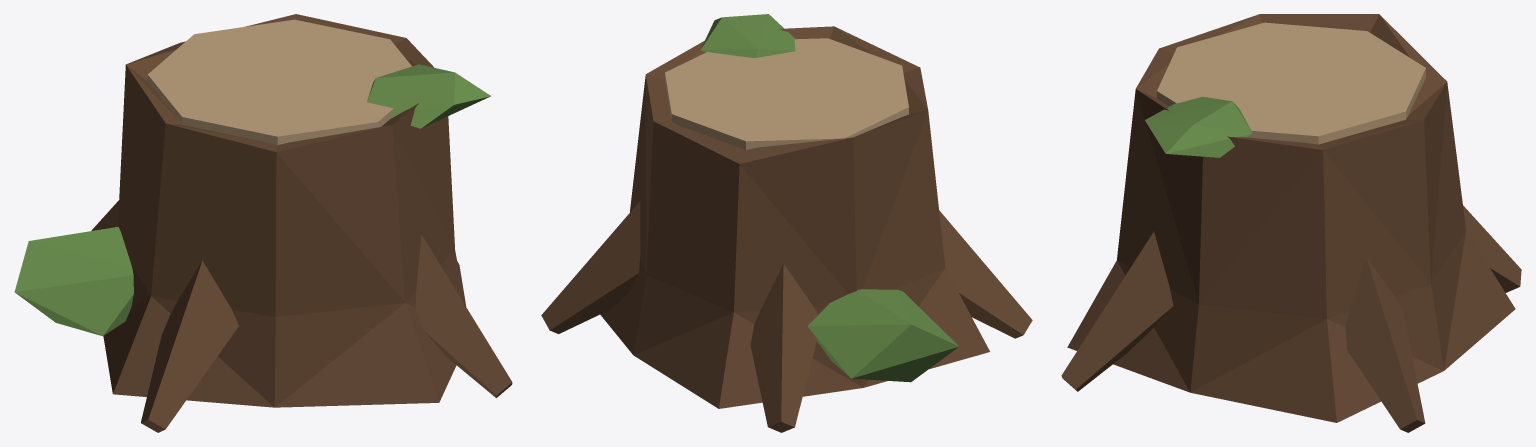
File: Stump.fbx
The picture shows the model from 3 angles, left to right: view 1: azimuth 30°, elevation 25°; view 2: azimuth 150°, elevation 25°; view 3: azimuth 270°, elevation 25°; orthographic projection. The views are drawn at different scales.
Parts seen in each view (by area): view 1: Bark, Top, Moss; view 2: Bark, Top, Moss; view 3: Bark, Top, Moss.
Part boxes in pixels (x1=…): Bark: x1=91, y1=14, x2=512, y2=432; Top: x1=147, y1=19, x2=411, y2=145; Moss: x1=14, y1=64, x2=490, y2=336; Bark: x1=541, y1=26, x2=1032, y2=432; Top: x1=665, y1=38, x2=908, y2=149; Moss: x1=700, y1=14, x2=959, y2=382; Bark: x1=1061, y1=14, x2=1521, y2=432; Top: x1=1157, y1=22, x2=1425, y2=144; Moss: x1=1145, y1=96, x2=1252, y2=157.
Size of the model in its own units: 2.04 by 1.26 by 1.91.
